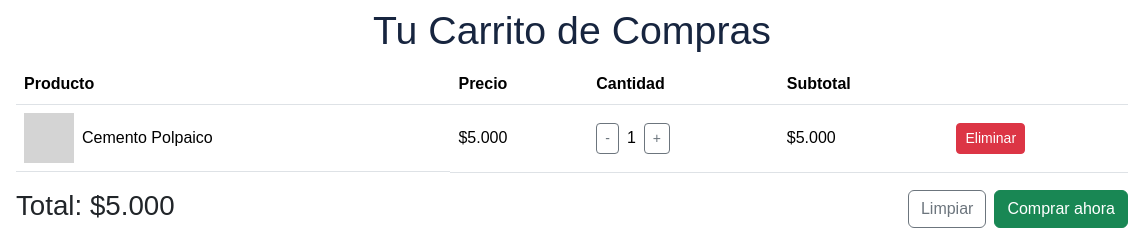
Test: sebas › Carrito actualiza el total al cambiar la cantidad (estado)
Check: the text with test id "total-carrito" reads "$5.000", box x1=90 y1=190 x2=175 y2=221
Click the button named "Aumentar Cemento Polpaico" at (657, 138), box x1=644 y1=123 x2=670 y2=154
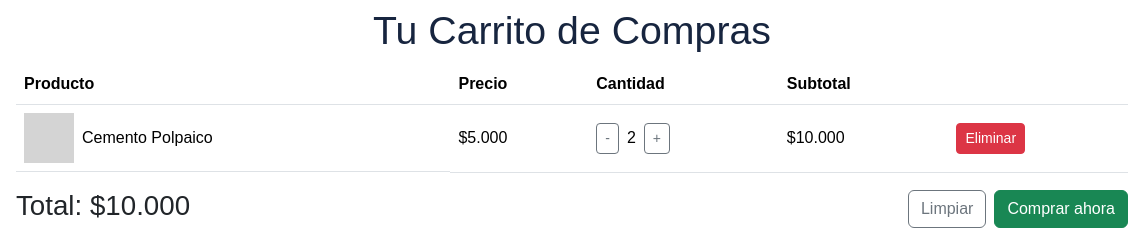
Check: the text with test id "total-carrito" reads "$10.000", box x1=90 y1=190 x2=190 y2=221
